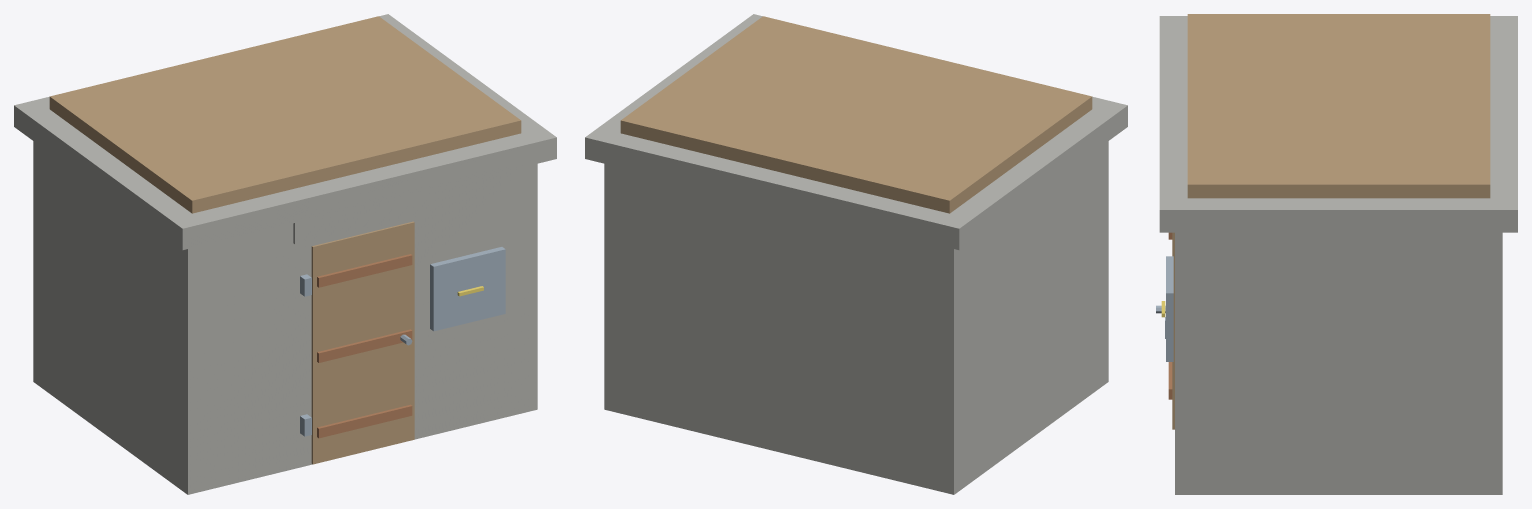
File: wipe-day-survival-island-lighthouse-loot-room-0c78c998__27506.glb
3 views of the same model, side by side, from view 1: azimuth 30°, elevation 25°; view 2: azimuth 150°, elevation 25°; view 3: azimuth 270°, elevation 25° (orthographic). The views are drawn at different scales.
Parts seen in each view (by area): view 1: lighthouse-loot-room, door/wood, door/rust; view 2: lighthouse-loot-room; view 3: lighthouse-loot-room, door/wood.
Boxes of the visible parts, bbox=[...] form: lighthouse-loot-room: bbox=[14, 14, 556, 494]; door/wood: bbox=[311, 221, 414, 464]; door/rust: bbox=[317, 254, 412, 438]; lighthouse-loot-room: bbox=[585, 14, 1127, 494]; lighthouse-loot-room: bbox=[1159, 14, 1517, 494]; door/wood: bbox=[1172, 232, 1174, 429].
Bounding box in the file's own units: 3.64 × 2.67 × 2.87.
